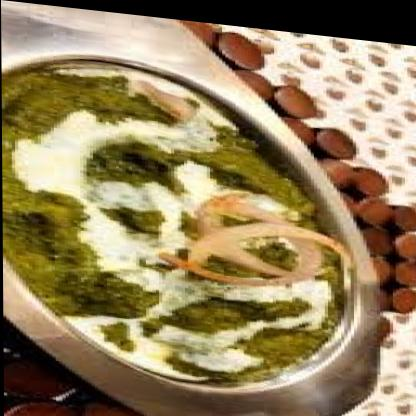palak_paneer: (0, 50, 350, 389)
